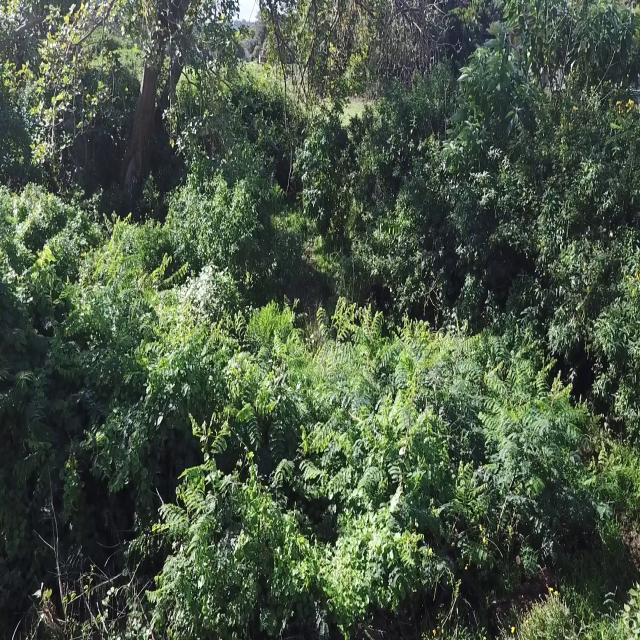Mysore-Thorn-Weed: (223, 300, 360, 513), (66, 212, 204, 414), (165, 468, 287, 640), (483, 346, 589, 492), (378, 319, 441, 502), (289, 556, 434, 630), (0, 352, 35, 419)
